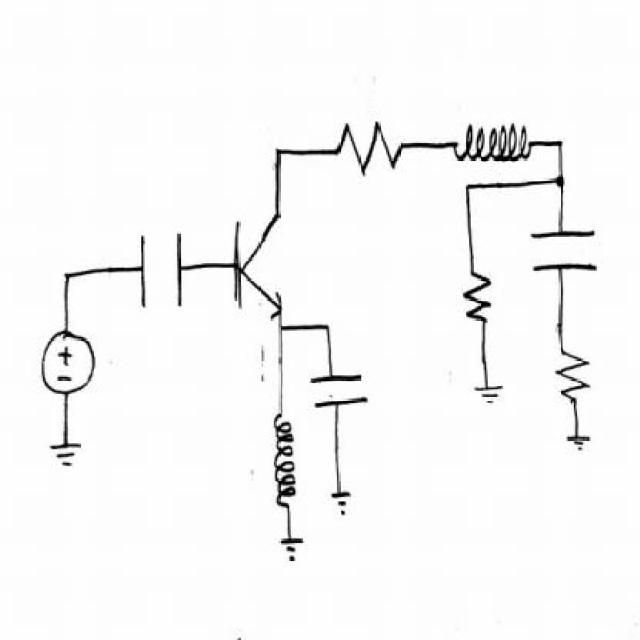capacitor: (128, 223, 195, 313), (520, 214, 606, 281), (311, 352, 378, 422)
ground: (472, 370, 506, 425), (47, 431, 87, 476), (271, 528, 314, 567), (328, 478, 359, 527), (563, 427, 604, 461)
inductor: (260, 398, 304, 523), (451, 120, 541, 170)
resistor: (328, 115, 403, 184), (462, 265, 503, 341), (555, 334, 595, 400)
transistor: (221, 210, 308, 314)
voltage_source: (34, 322, 109, 404)
